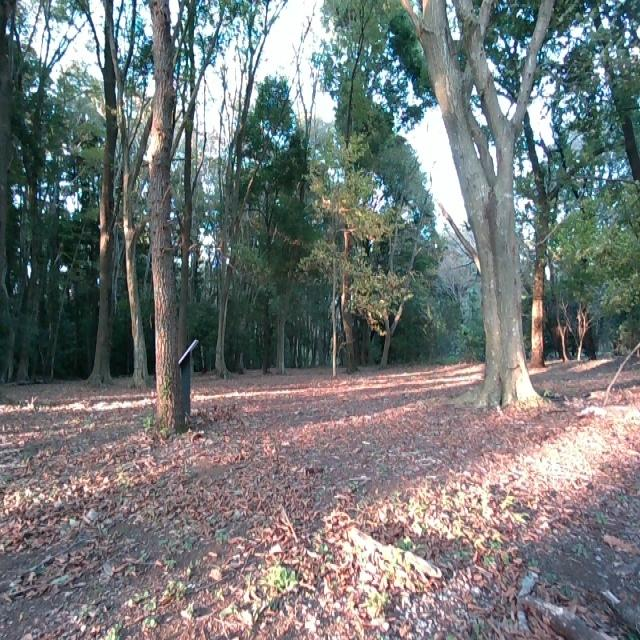artifact: (177, 338, 197, 428)
bush: (569, 192, 640, 353)
tree: (414, 0, 556, 405), (144, 0, 185, 427), (336, 38, 370, 380), (90, 0, 115, 383), (120, 0, 143, 384), (212, 197, 237, 375)
